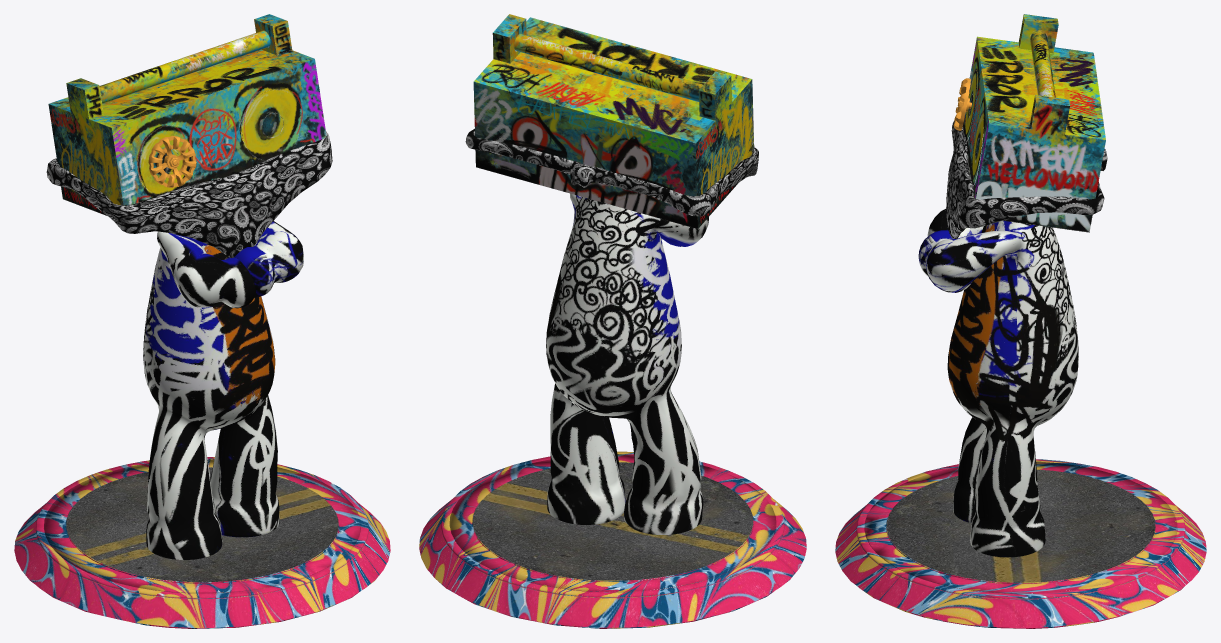
3 renders of one model, left to right at view 1: azimuth 30°, elevation 25°; view 2: azimuth 150°, elevation 25°; view 3: azimuth 270°, elevation 25°, orthographic. The views are drawn at different scales.
Visible parts, largest first — view 1: BBody; view 2: BBody; view 3: BBody.
Boxes of the visible parts, box(x1,y1,x2,y2) form: BBody: box(14, 14, 390, 628); BBody: box(419, 14, 806, 628); BBody: box(835, 14, 1206, 628).
Size of the model in its own units: 1.45 by 2.12 by 1.45.
Materials: 6 (6 with a texture image).
